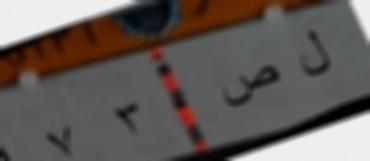3: (109, 89, 146, 142)
7: (42, 116, 84, 161)
laam: (296, 25, 336, 90)
saad: (220, 57, 280, 122)
